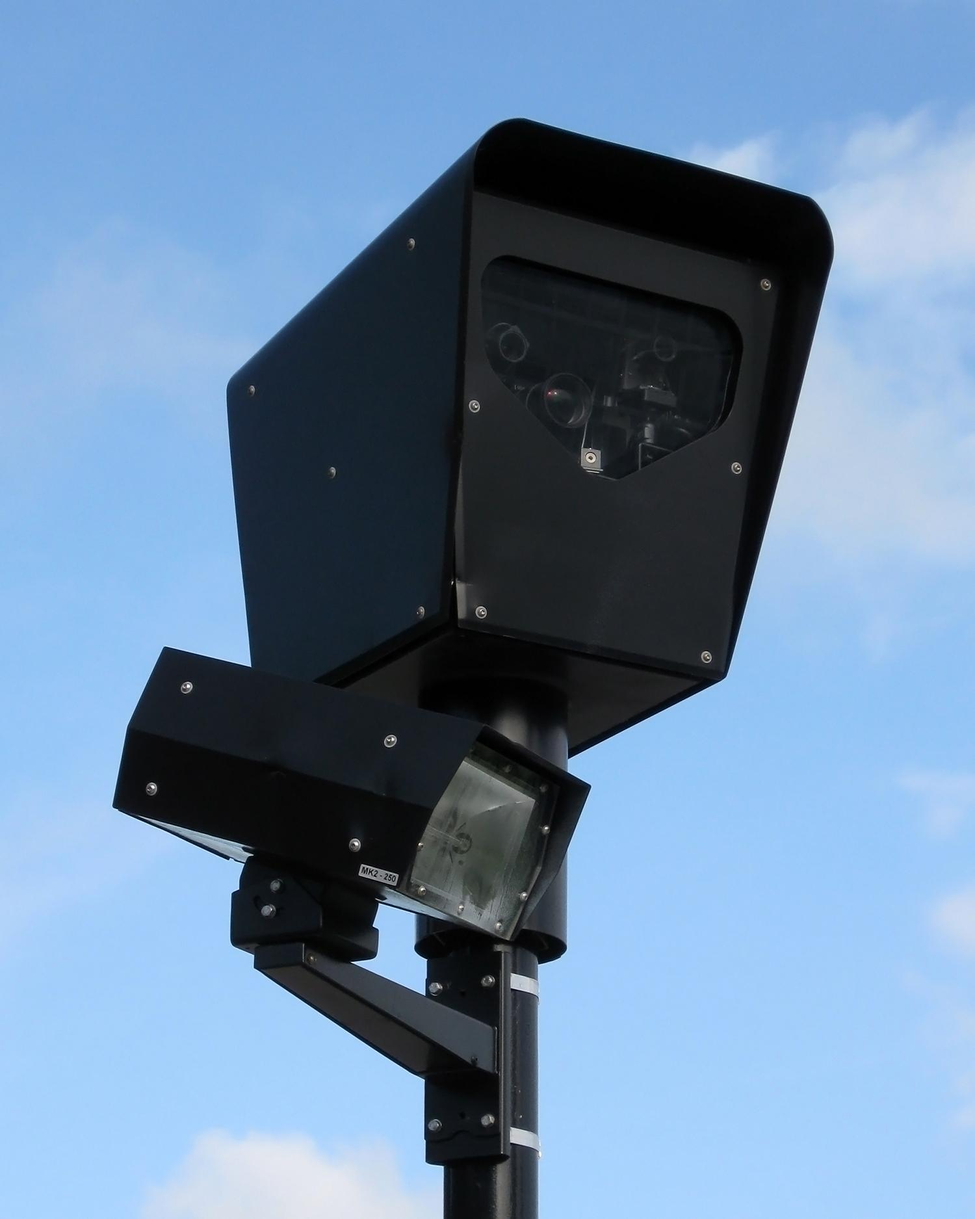Monitor: (223, 114, 834, 760)
